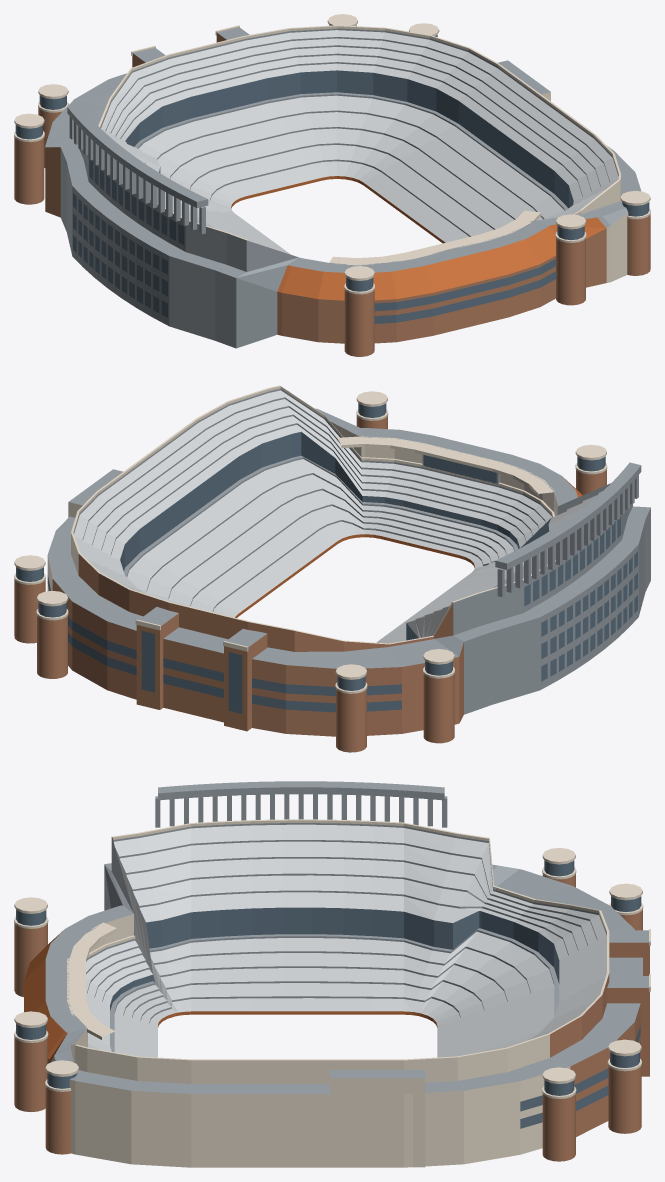
The model's file is atx-dkr-texas-memorial-stadium.glb.
3 views of the same model, one above another, from view 1: azimuth 30°, elevation 25°; view 2: azimuth 150°, elevation 25°; view 3: azimuth 270°, elevation 25° (orthographic). The views are drawn at different scales.
Parts seen in each view (by area): view 1: Darrell K Royal–Texas Memorial Stadium; view 2: Darrell K Royal–Texas Memorial Stadium; view 3: Darrell K Royal–Texas Memorial Stadium.
Part boxes in pixels (<box>): Darrell K Royal–Texas Memorial Stadium: <box>14,14,650,356</box>; Darrell K Royal–Texas Memorial Stadium: <box>14,385,650,752</box>; Darrell K Royal–Texas Memorial Stadium: <box>14,781,650,1167</box>.
Bounding box in the file's own units: 242 × 67.7 × 267.
